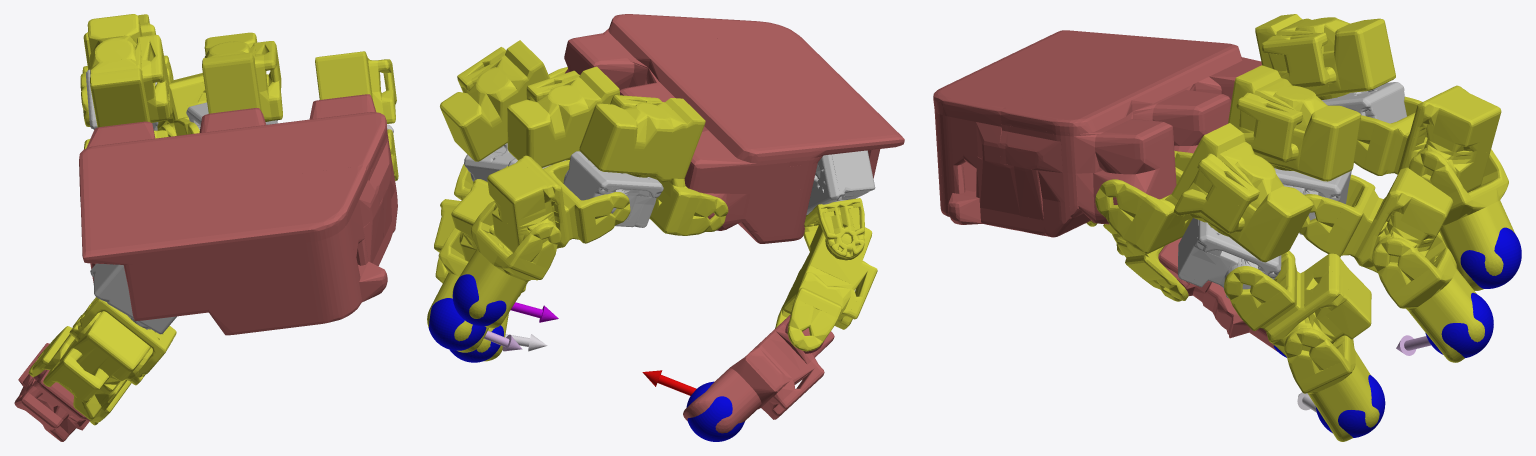
The model's file is hand_opt_res.glb.
3 renders of one model, left to right at view 1: azimuth 30°, elevation 25°; view 2: azimuth 150°, elevation 25°; view 3: azimuth 270°, elevation 25°, orthographic. The views are drawn at different scales.
Parts seen in each view (by area): view 1: world; view 2: world; view 3: world.
Part boxes in pixels (x1,y1,x2,y2): world: (14, 14, 398, 441); world: (427, 14, 904, 441); world: (933, 14, 1521, 441).
Bounding box in the file's own units: 0.1873 × 0.1617 × 0.2265.
